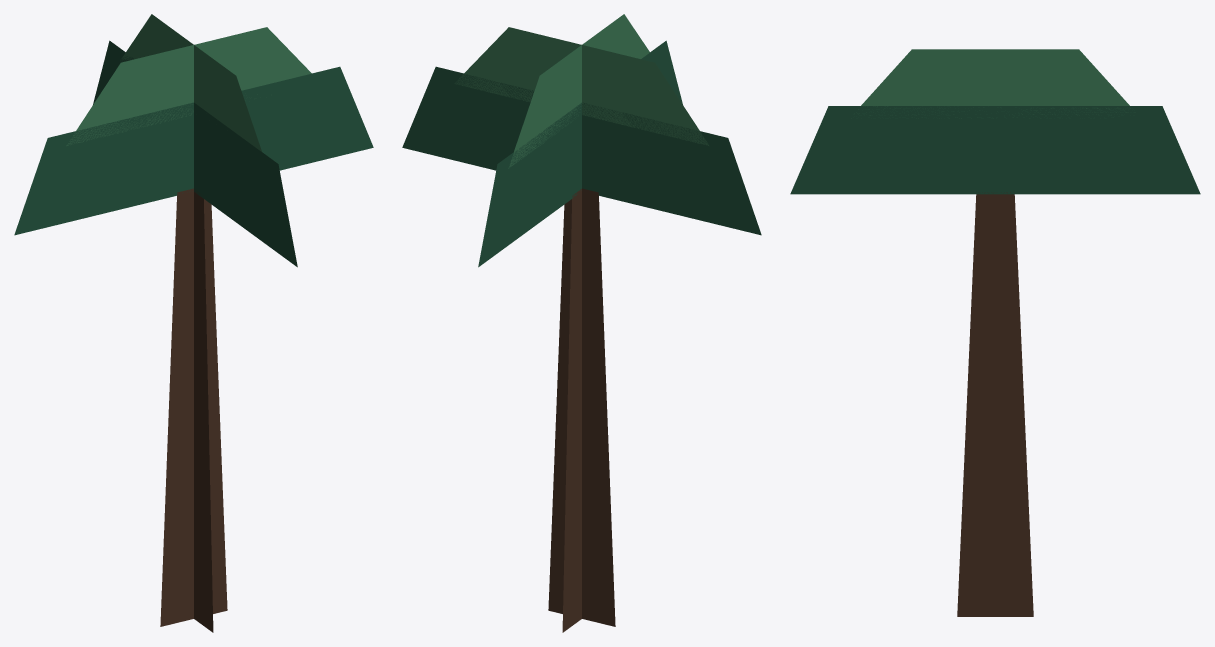
File: custom-jequitiba-silhueta.glb
3 renders of one model, left to right at view 1: azimuth 30°, elevation 25°; view 2: azimuth 150°, elevation 25°; view 3: azimuth 270°, elevation 25°, orthographic.
Parts seen in each view (by area): view 1: jequitiba-silhueta; view 2: jequitiba-silhueta; view 3: jequitiba-silhueta.
Boxes of the visible parts, x1,y1,x2,y2 form: jequitiba-silhueta: [14, 14, 373, 632]; jequitiba-silhueta: [402, 14, 761, 632]; jequitiba-silhueta: [790, 49, 1200, 616].
Bounding box in the file's own units: 11.8 × 18 × 11.8.
